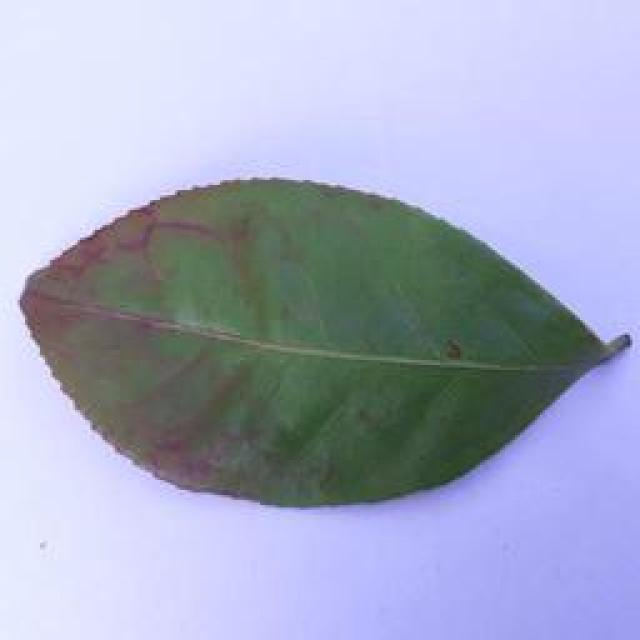Red Leaf Spot: (10, 165, 640, 513)
